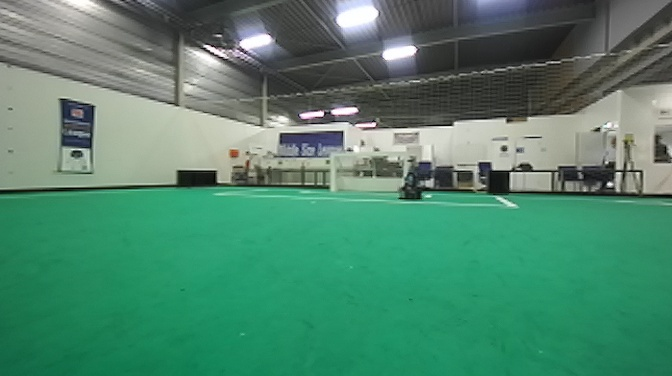goal: (328, 150, 411, 197)
robot: (398, 151, 424, 200)
